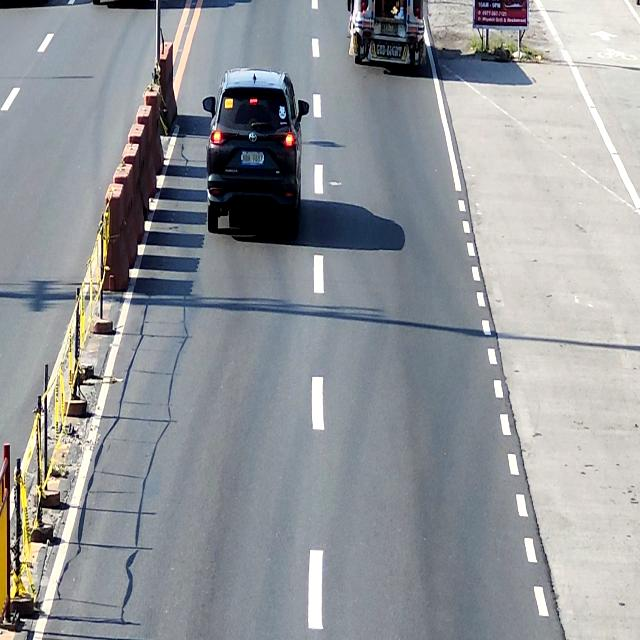Car: (202, 68, 310, 240)
Jeep: (348, 0, 424, 65)
License-Plate: (242, 151, 263, 164), (382, 22, 398, 36)
